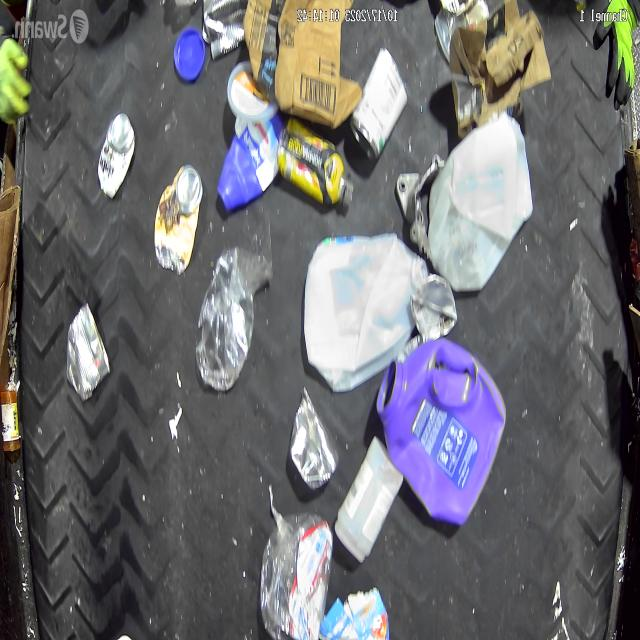can: (350, 47, 408, 161), (288, 386, 338, 492), (154, 165, 202, 274), (63, 299, 111, 404), (92, 109, 136, 200), (410, 274, 457, 340), (203, 0, 247, 59)
milk_jug: (305, 230, 416, 390), (429, 116, 532, 288)
non_white_jug: (379, 340, 506, 526)
